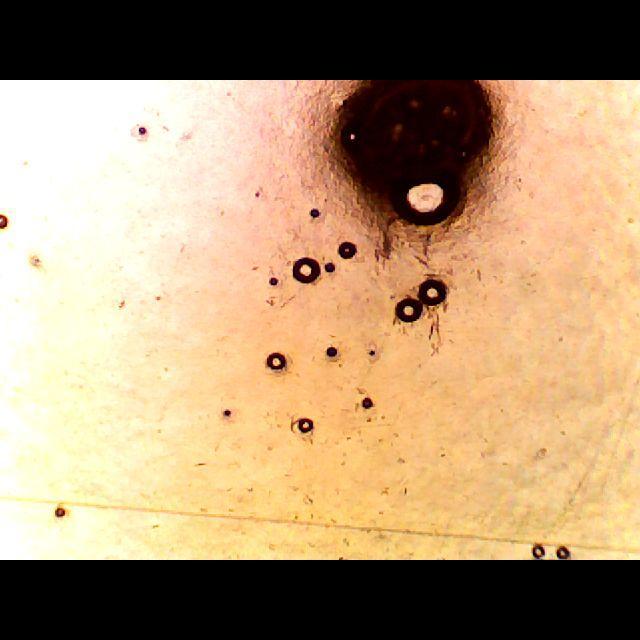microbeads: (314, 80, 512, 230)
